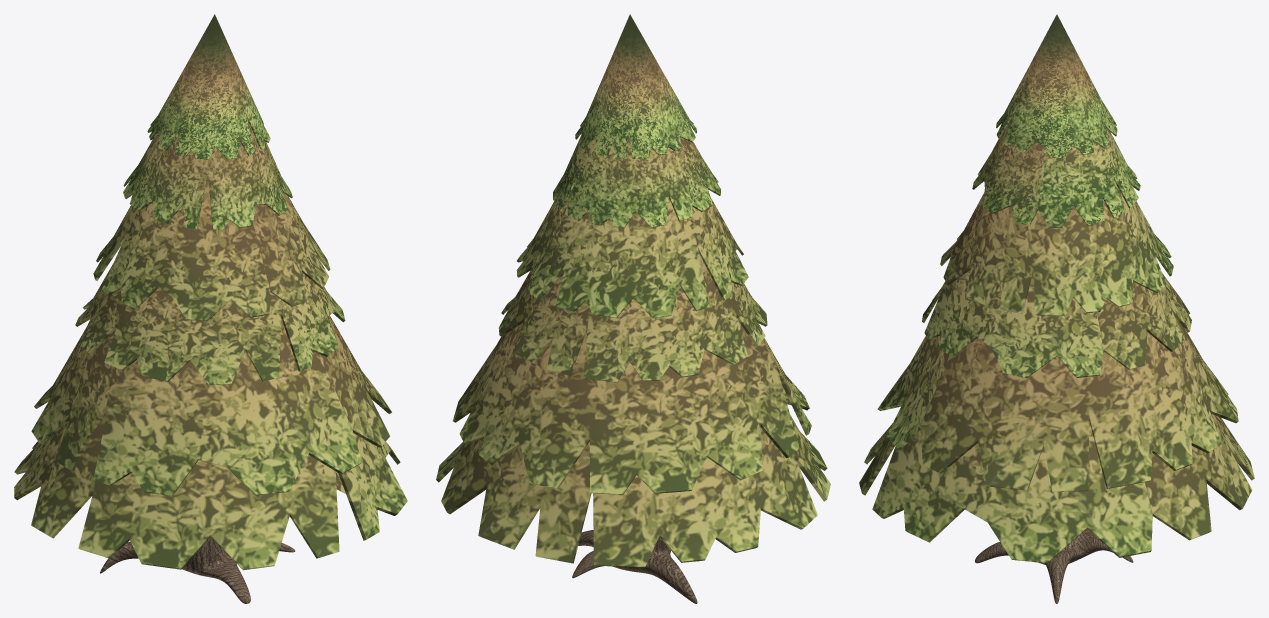
The model's file is Tree.fbx.
The picture shows the model from 3 angles, left to right: view 1: azimuth 30°, elevation 25°; view 2: azimuth 150°, elevation 25°; view 3: azimuth 270°, elevation 25°; orthographic projection.
Parts seen in each view (by area): view 1: pCone19; view 2: pCone19; view 3: pCone19.
Boxes of the visible parts, x1,y1,x2,y2 form: pCone19: [14, 14, 407, 603]; pCone19: [436, 14, 830, 603]; pCone19: [859, 14, 1254, 603].
Size of the model in its own units: 1379 by 2101 by 1364.
